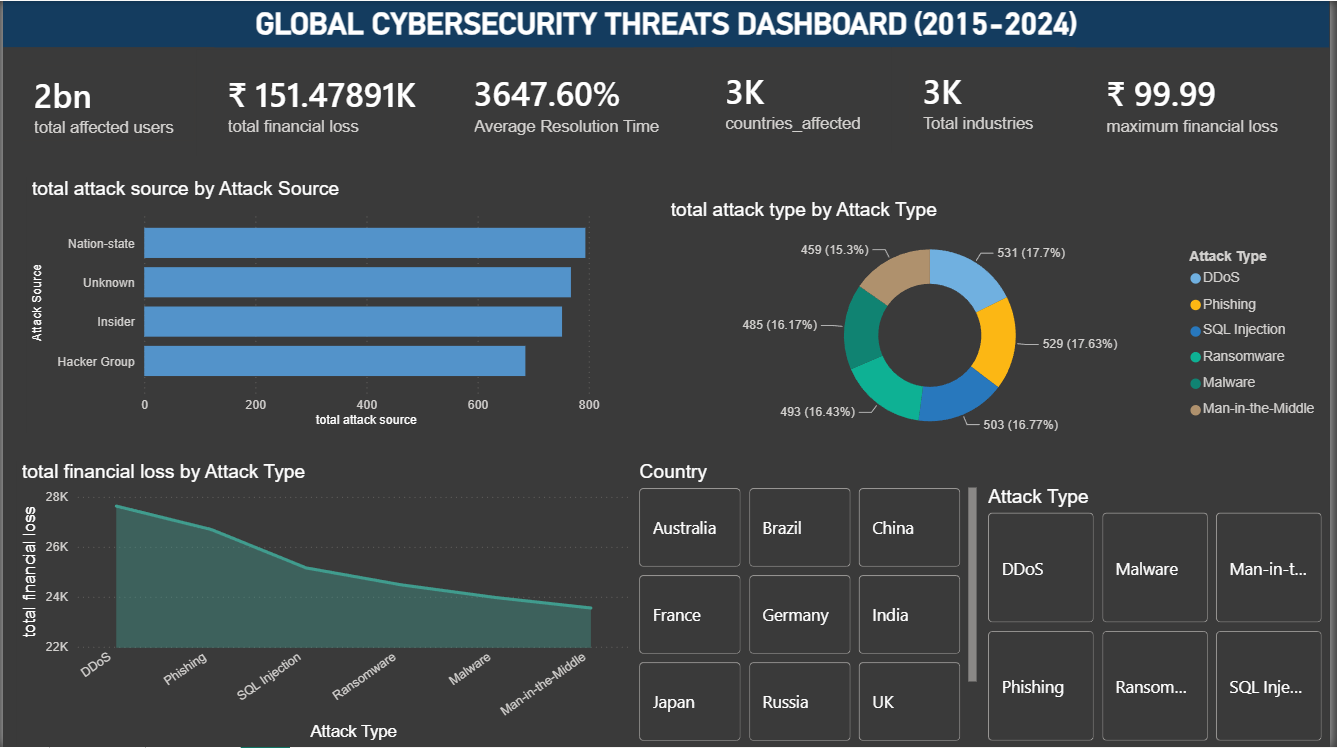

This screenshot's page, from the dashboard's own definition file:
{"tool":"powerbi","page":{"name":"Page 1","canvas":[1280,720],"ordinal":0},"visuals":[{"type":"textbox","box":[0,0,1280,44.6],"z":0},{"type":"advancedSlicerVisual","fields":{"Values":["Global_Cybersecurity_Threats_20.Country"]},"box":[609.3,444,335.4,275.1],"z":1000},{"type":"advancedSlicerVisual","fields":{"Values":["Global_Cybersecurity_Threats_20.Attack Type"]},"box":[945.8,468.1,334.2,250.9],"z":2000},{"type":"cardVisual","fields":{"Data":["Global_Cybersecurity_Threats_20.total affected users"]},"box":[0,44.6,203.9,108.6],"z":3000},{"type":"cardVisual","fields":{"Data":["Global_Cybersecurity_Threats_20.total financial loss"]},"box":[187,47.1,247.3,102.5],"z":4000},{"type":"cardVisual","fields":{"Data":["Global_Cybersecurity_Threats_20.Average Resolution Time"]},"box":[424.7,47.1,242.5,101.3],"z":5000},{"type":"cardVisual","fields":{"Data":["Global_Cybersecurity_Threats_20.countries_affected"]},"box":[667.2,44.6,189.4,101.3],"z":6000},{"type":"cardVisual","fields":{"Data":["Global_Cybersecurity_Threats_20.Total industries"]},"box":[857.8,44.6,177.3,101.3],"z":7000},{"type":"cardVisual","fields":{"Data":["Global_Cybersecurity_Threats_20.maximum financial loss"]},"box":[1035.1,47.1,232.8,101.3],"z":8000},{"type":"areaChart","fields":{"Category":["Global_Cybersecurity_Threats_20.Attack Type"],"Y":["Global_Cybersecurity_Threats_20.total financial loss"]},"box":[13.3,444,596,275.1],"z":9000},{"type":"donutChart","fields":{"Category":["Global_Cybersecurity_Threats_20.Attack Type"],"Y":["Global_Cybersecurity_Threats_20.total attack type"]},"box":[639.4,190.6,640.6,243.7],"z":10000},{"type":"barChart","fields":{"Category":["Global_Cybersecurity_Threats_20.Attack Source"],"Y":["Global_Cybersecurity_Threats_20.total attack source"]},"box":[22.9,170.1,558.6,246.1],"z":11000}]}

Visuals, with their boxes in screenshot pixels (x1, y1, x2, y2), scaled from the page's 1280x720 canvas onto the 1337x748 screenshot:
textbox: 0,0,1336,46
advancedSlicerVisual - Global_Cybersecurity_Threats_20.Country: 636,461,987,747
advancedSlicerVisual - Global_Cybersecurity_Threats_20.Attack Type: 988,486,1336,747
cardVisual - Global_Cybersecurity_Threats_20.total affected users: 0,46,213,159
cardVisual - Global_Cybersecurity_Threats_20.total financial loss: 195,49,454,155
cardVisual - Global_Cybersecurity_Threats_20.Average Resolution Time: 444,49,697,154
cardVisual - Global_Cybersecurity_Threats_20.countries_affected: 697,46,895,152
cardVisual - Global_Cybersecurity_Threats_20.Total industries: 896,46,1081,152
cardVisual - Global_Cybersecurity_Threats_20.maximum financial loss: 1081,49,1324,154
areaChart - Global_Cybersecurity_Threats_20.Attack Type x Global_Cybersecurity_Threats_20.total financial loss: 14,461,636,747
donutChart - Global_Cybersecurity_Threats_20.Attack Type x Global_Cybersecurity_Threats_20.total attack type: 668,198,1336,451
barChart - Global_Cybersecurity_Threats_20.Attack Source x Global_Cybersecurity_Threats_20.total attack source: 24,177,607,432
